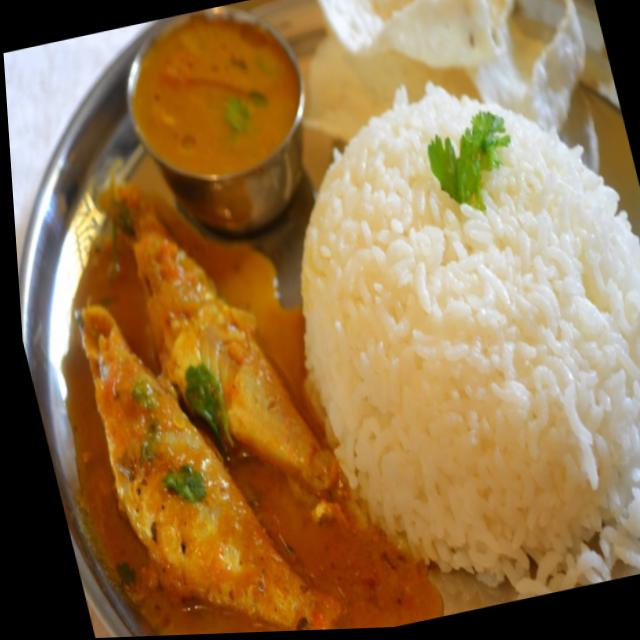FISH CURRY: (63, 177, 442, 636)
PAPADAM: (309, 0, 584, 128)
RICE: (301, 85, 640, 578)
SAMBAR: (127, 9, 302, 232)
